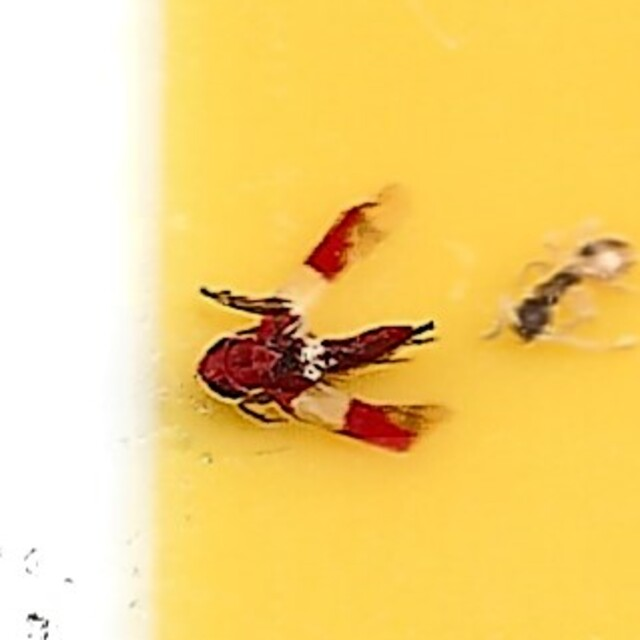Hemiptera: (201, 188, 439, 452)
